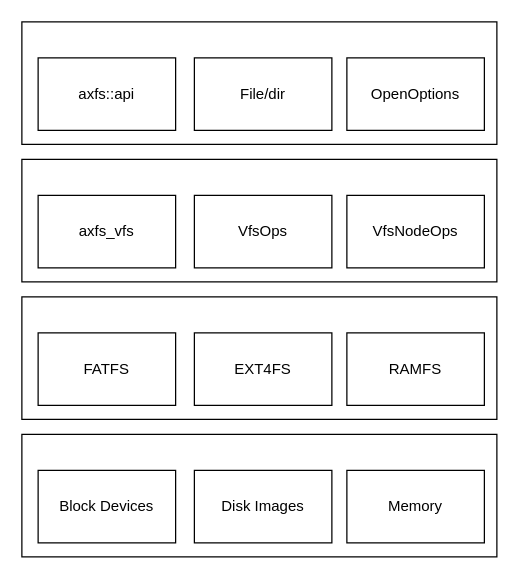
Image size: 519x579. Some labels were removed from this diagram. The box of each missing label's shape, as (x1, y1, x2, y2) in pixels:
API层: (21, 21, 497, 144)
存储层 (Storage Layer): (21, 433, 497, 557)
实际文件系统实现 (FS Implementations): (21, 296, 497, 419)
虚拟文件系统层 (VFS Layer): (21, 158, 497, 282)
